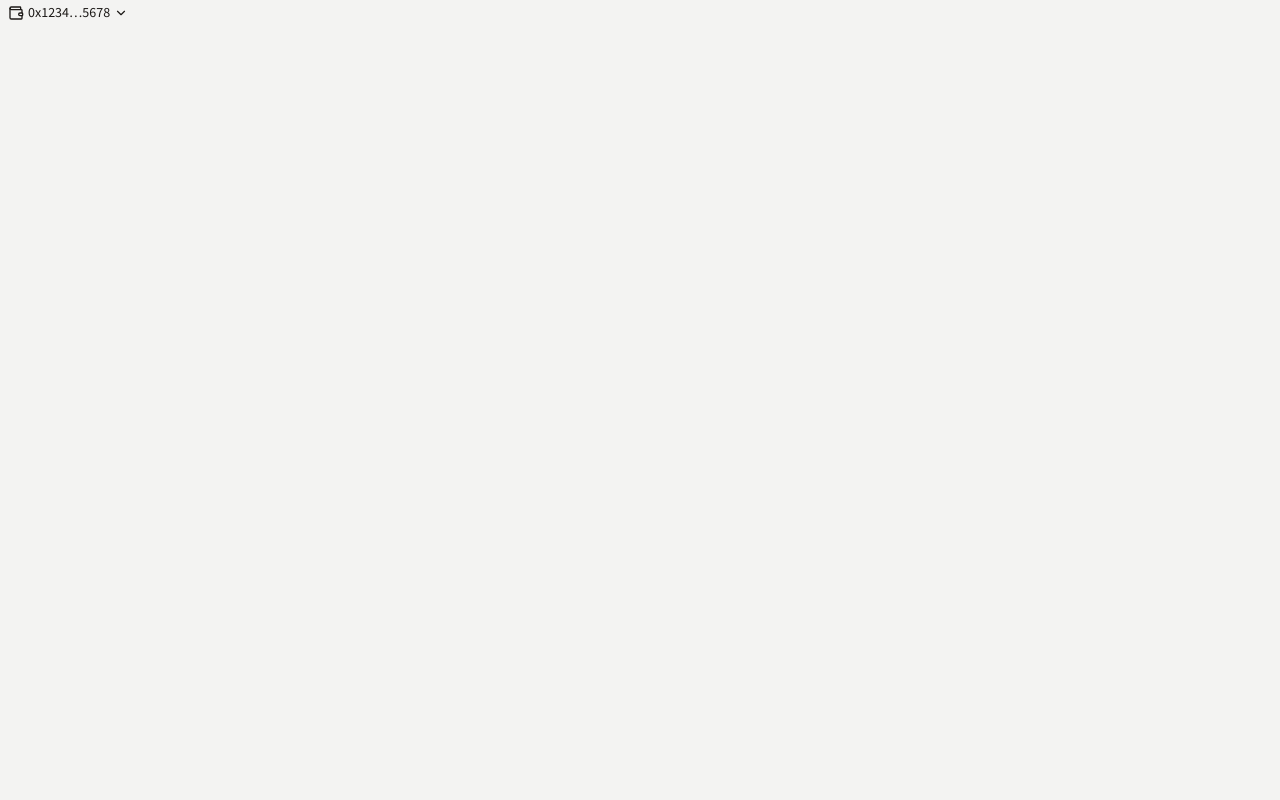
Test: WalletButton — wallet connected (non-watch) › shows popover menu with Copy address, Switch wallet, View another address, and Disconnect
What coordinates should you click on to do the following:
click the button named "wallet"
I would click on:
 (68, 13)
Its box is [0,0,136,26].
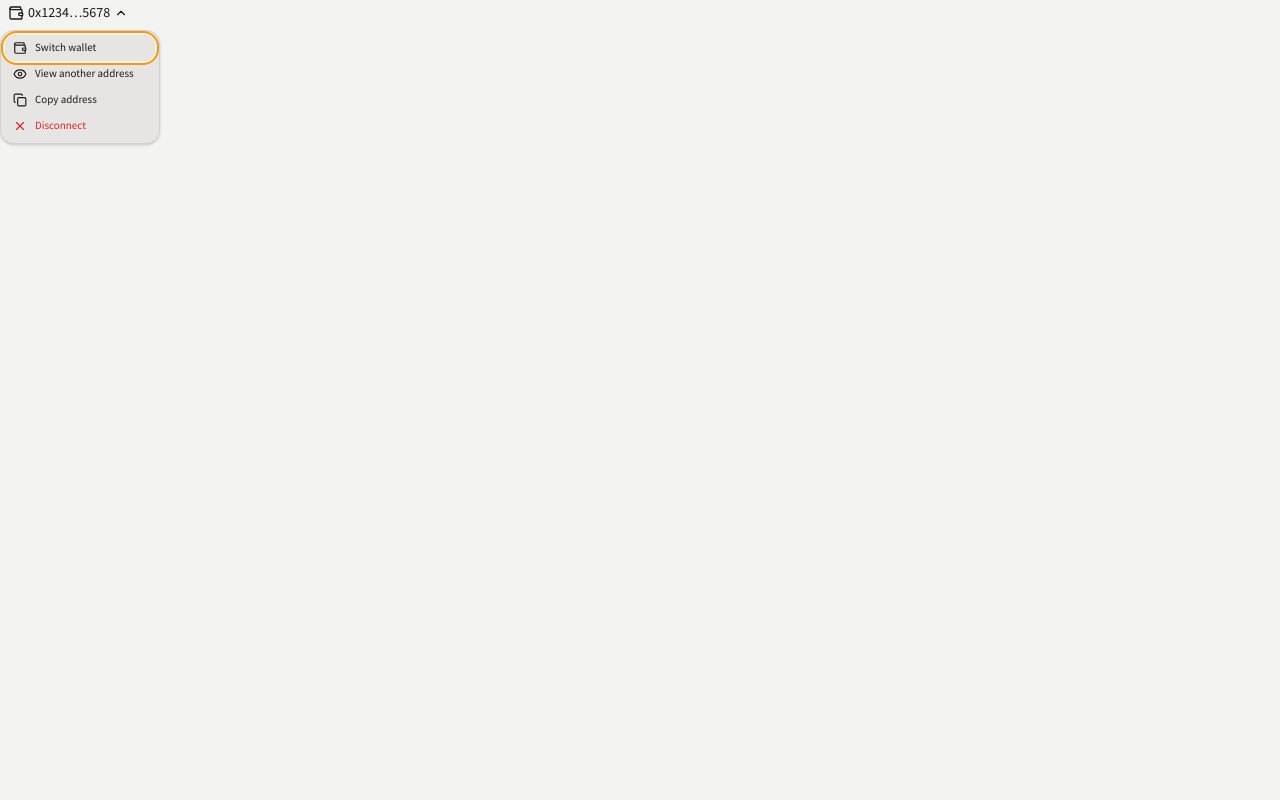
Expected: the button "Copy address" is shown, [5,87,155,113]
Expected: the button "Switch wallet" is shown, [5,35,155,61]
Expected: the button "View another address" is shown, [5,61,155,87]
